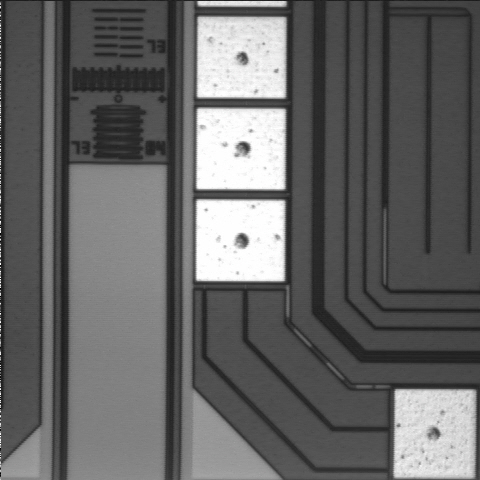pad: (196, 108, 285, 190), (196, 199, 285, 281), (197, 17, 286, 98), (394, 389, 475, 478)
